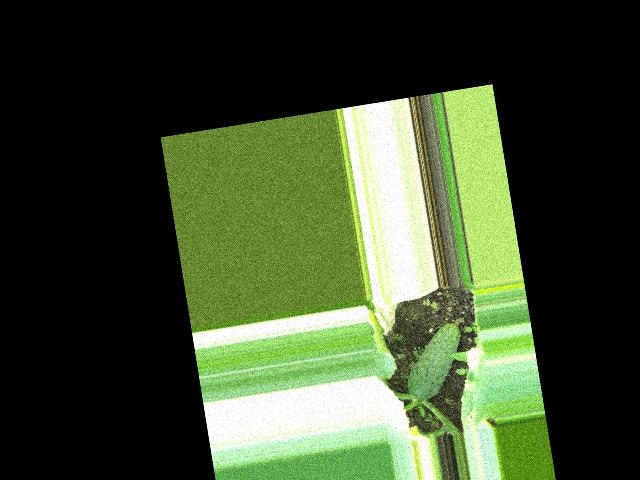cucumber: (398, 321, 470, 403)
